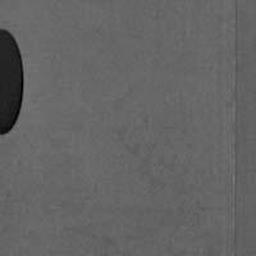Punching: (0, 28, 26, 137)
